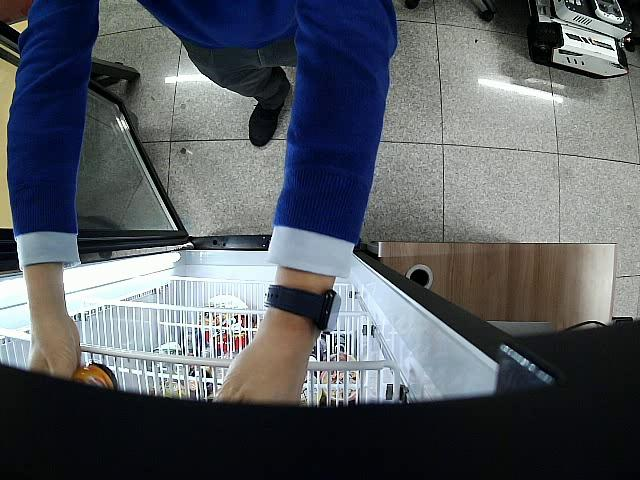17_vita500: (74, 362, 121, 390)
